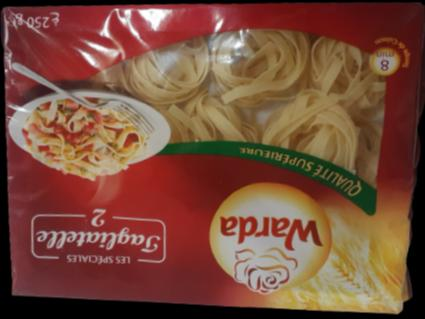Tagliatelle: (5, 6, 417, 309)
